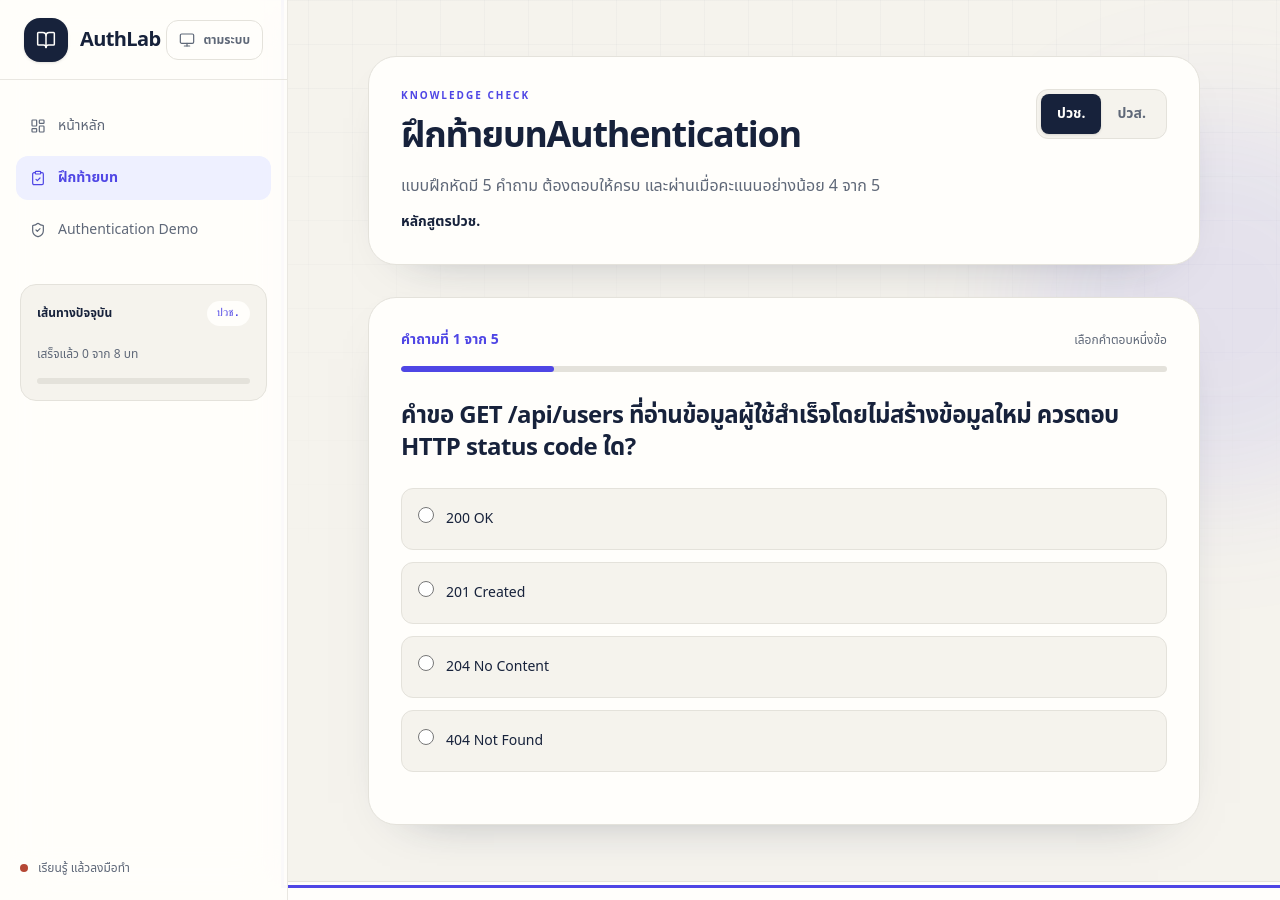
Test: PracticePage › locks a correct answer and immediately shows its explanation and Next action
The image size is (1280, 900).
Click the radio button labelled "200 OK" at (426, 515), box [418,507,434,523]
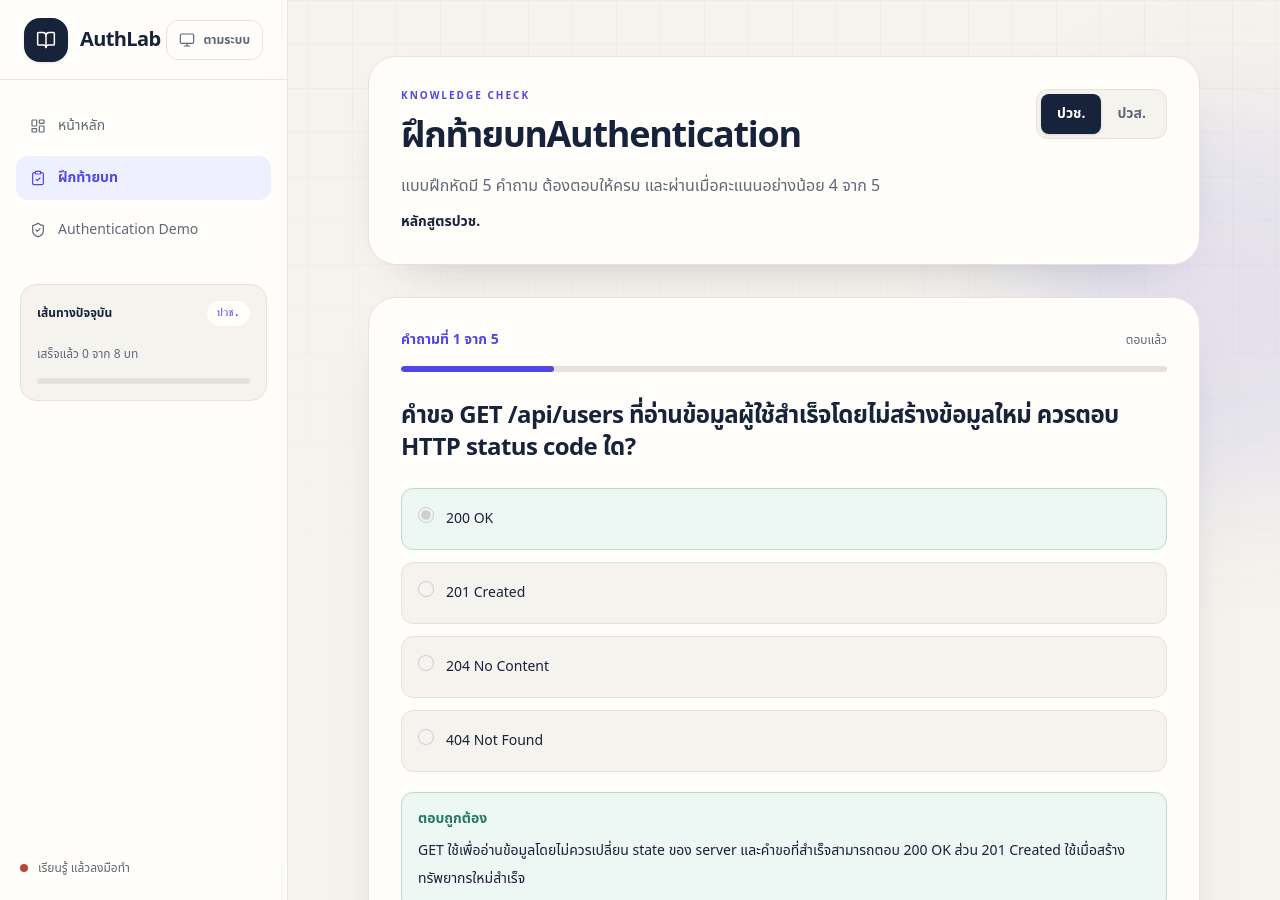
Check: the radio button labelled "200 OK" is checked, box [418,507,434,523]
Check: the radio button labelled "200 OK" is disabled, box [418,507,434,523]
Check: the radio button labelled "201 Created" is disabled, box [418,581,434,597]
